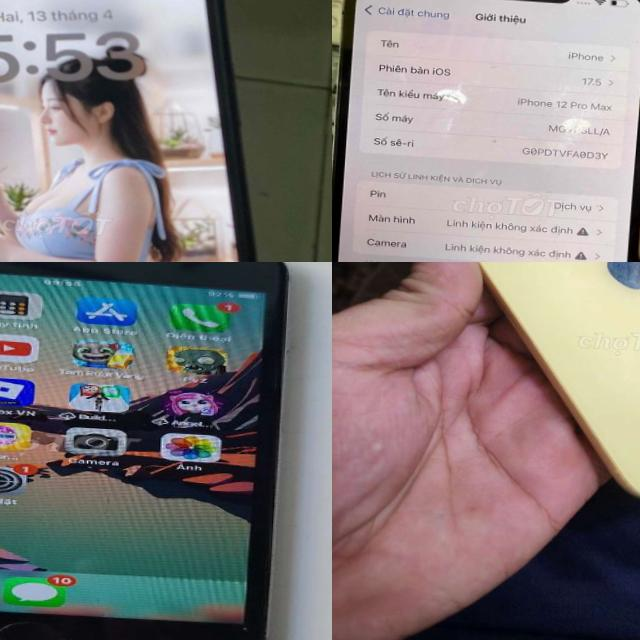gen_11: (0, 0, 322, 262), (380, 262, 640, 517)
gen_12_13: (332, 0, 640, 262)
gen_6: (0, 262, 314, 640)
scratch: (597, 262, 640, 289)
